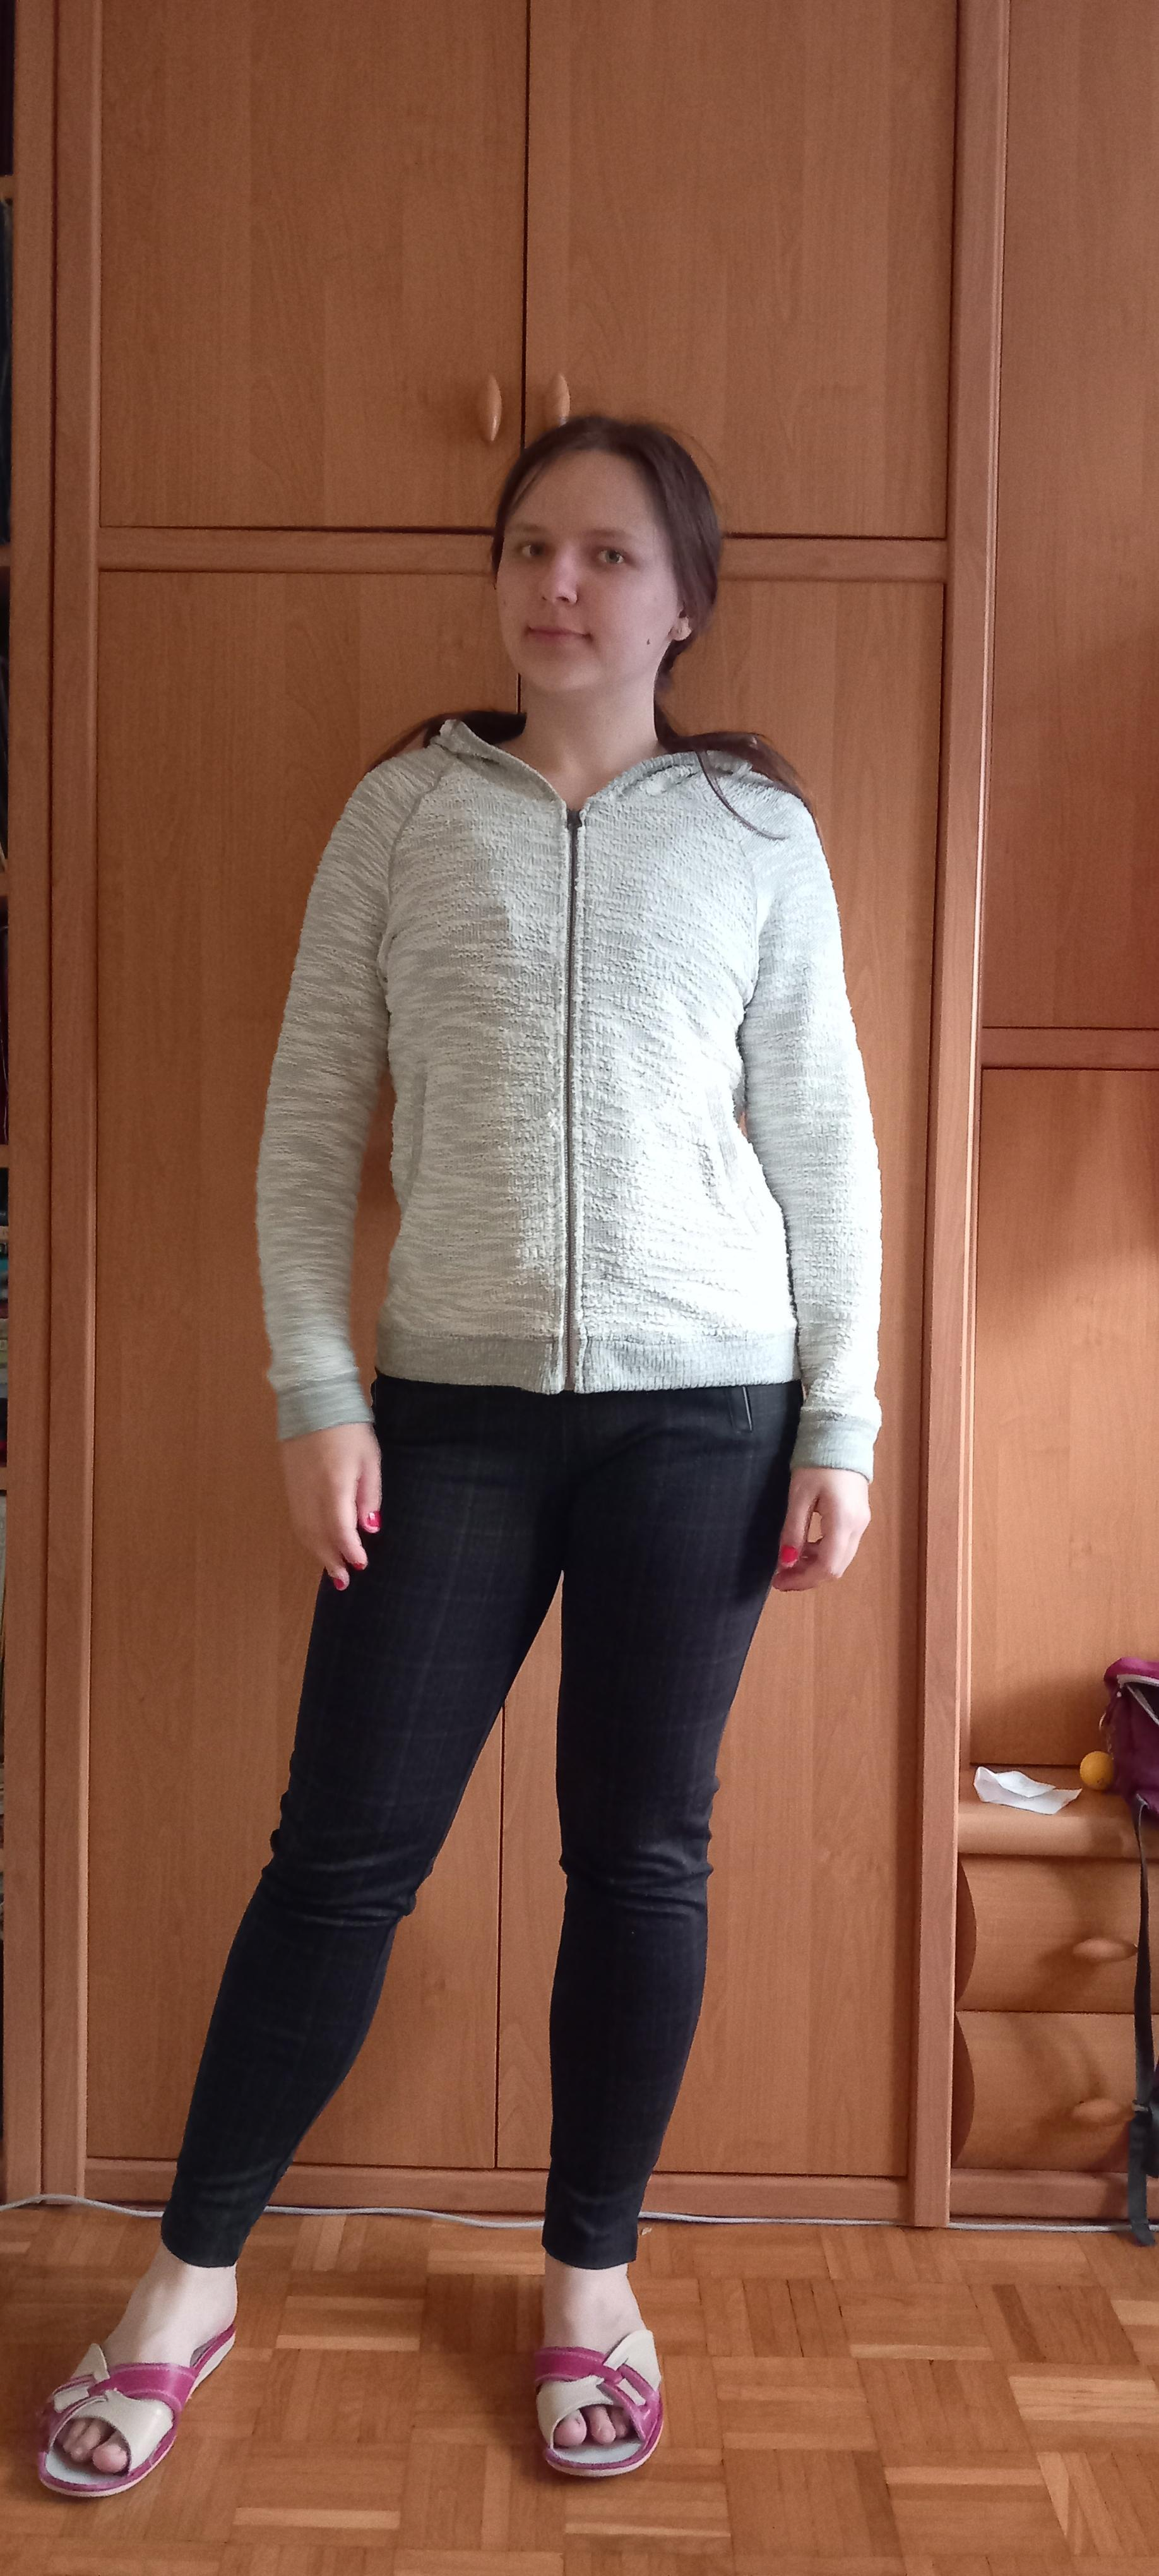pants: (158, 1370, 809, 2272)
sweater: (258, 715, 883, 1482)
